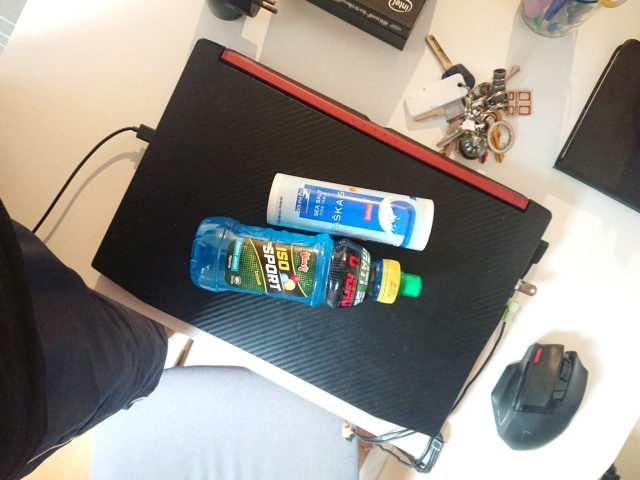Solana Pag Fine Sea Salt 250g: (264, 170, 437, 254)
Vindi Iso Sport Forest Strawberries 500mL: (187, 215, 425, 313)
